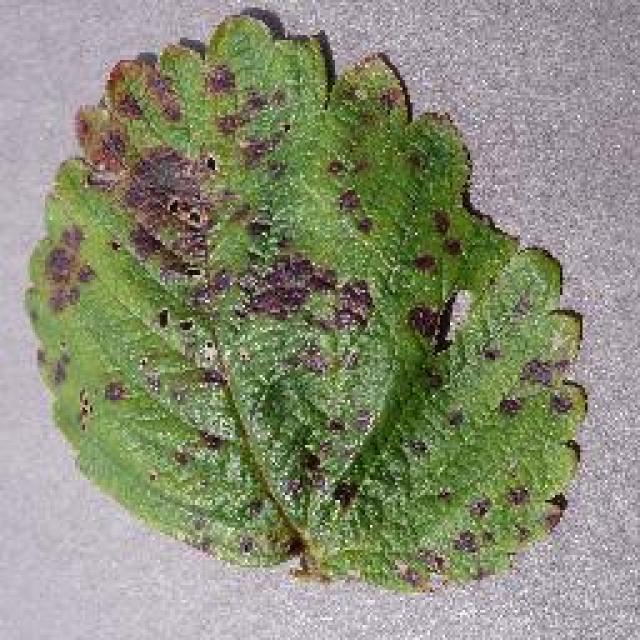Strawberry leaf scorch: (86, 115, 532, 528)
